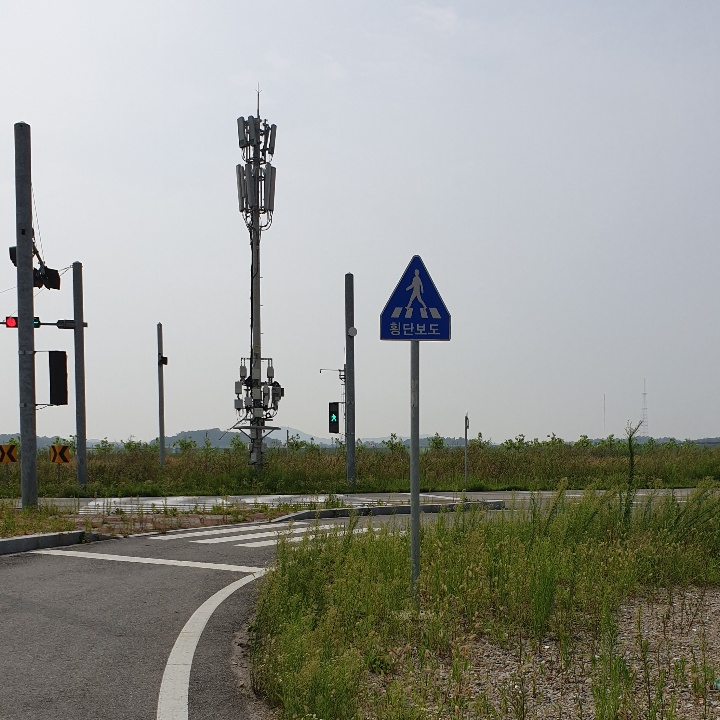cross: (399, 261, 436, 313)
